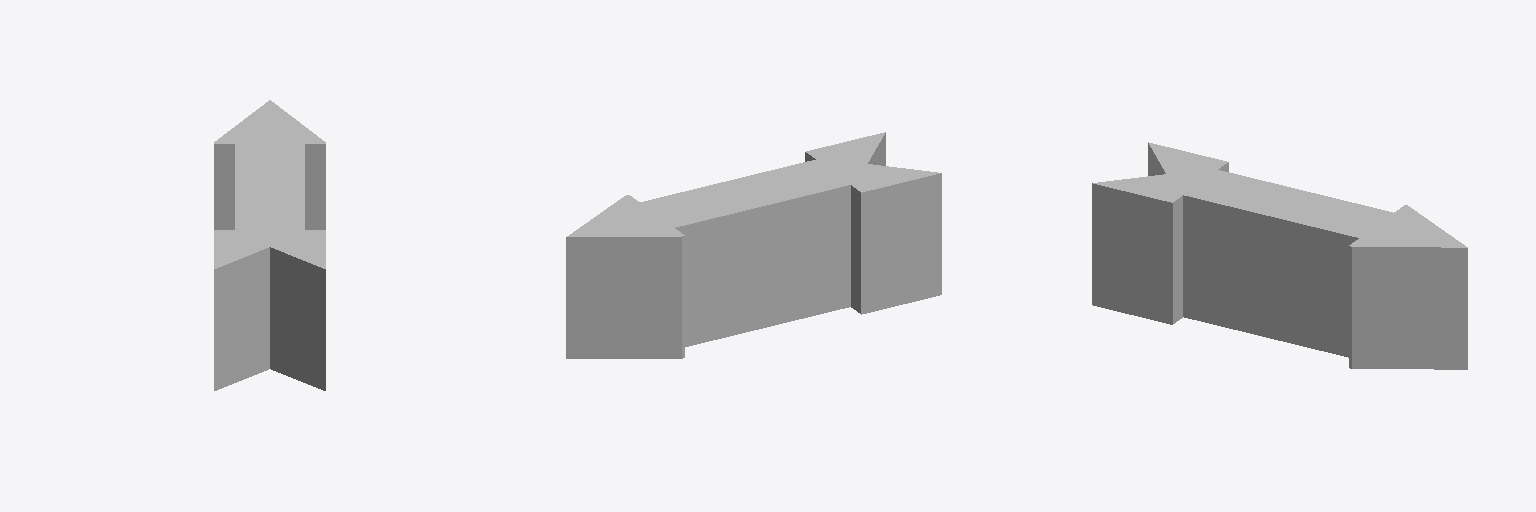
File: arrow.obj
3 views of the same model, side by side, from view 1: azimuth 30°, elevation 25°; view 2: azimuth 150°, elevation 25°; view 3: azimuth 270°, elevation 25° (orthographic).
Parts seen in each view (by area): view 1: ExportArrow.002_Cube.002; view 2: ExportArrow.002_Cube.002; view 3: ExportArrow.002_Cube.002.
Part boxes in pixels (x1,y1,x2,y2): ExportArrow.002_Cube.002: (214,100,325,390); ExportArrow.002_Cube.002: (566,132,941,358); ExportArrow.002_Cube.002: (1092,142,1467,369).
Size of the model in its own units: 1.65 by 0.8915 by 2.49.